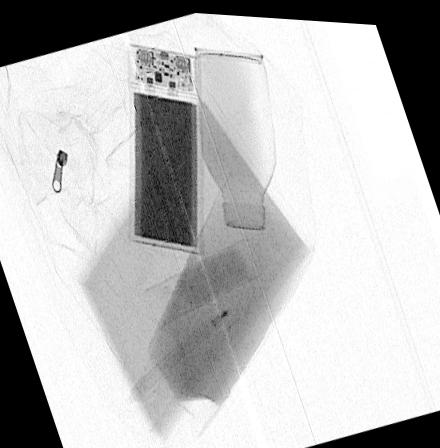Powerbank: (126, 42, 199, 252)
